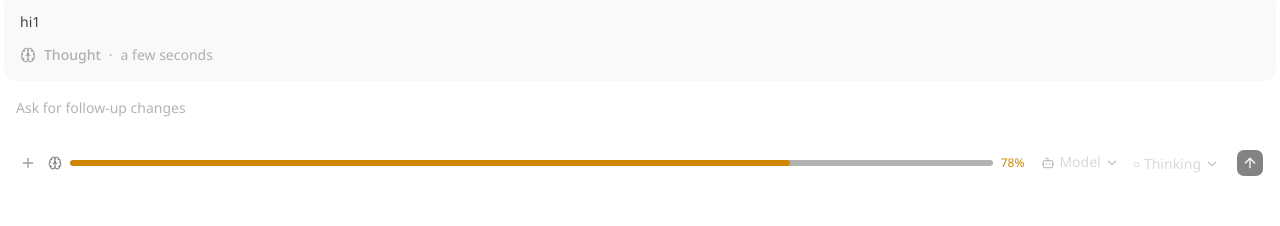
ChatStream › does NOT leak Reasoning state across sessions (per-session key)
Expected: the text "thought-one" is not shown
…and expands on click.
Click the button with test id "reasoning-trigger".
click(128, 54)  # box [20,44,237,65]
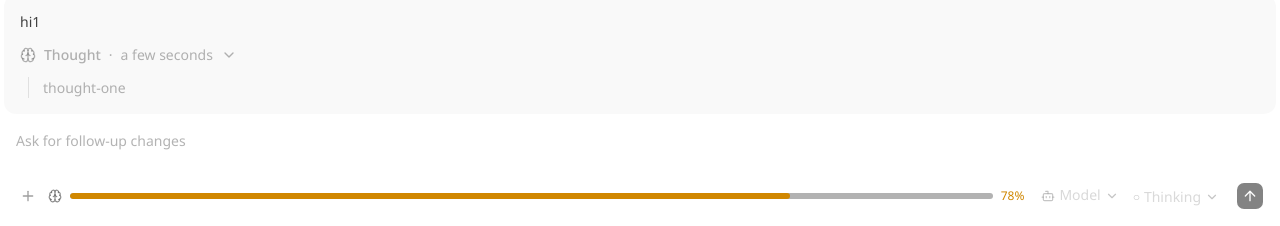
Expected: the text "thought-one" is shown, [43,78,126,97]
